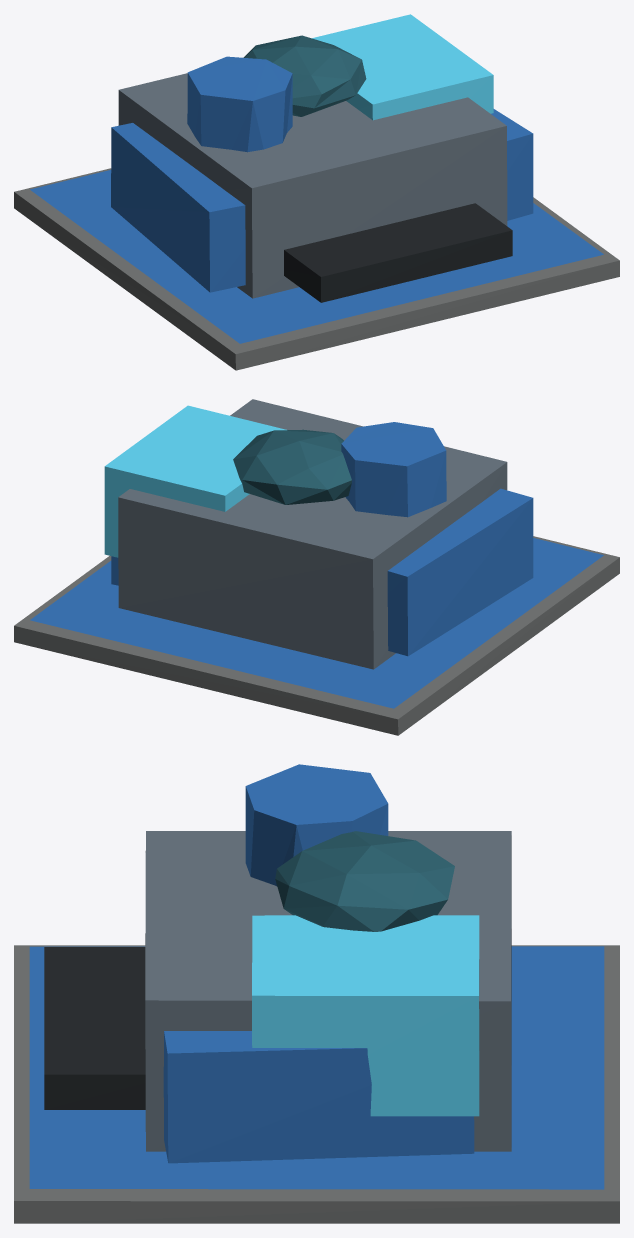
The model's file is SM_Alliance_AL_Refinery_LOD3.fbx.
3 renders of one model, top to bottom at view 1: azimuth 30°, elevation 25°; view 2: azimuth 150°, elevation 25°; view 3: azimuth 270°, elevation 25°, orthographic. The views are drawn at different scales.
Parts seen in each view (by area): view 1: LOD03_SM_Alliance_AL_Refinery; view 2: LOD03_SM_Alliance_AL_Refinery; view 3: LOD03_SM_Alliance_AL_Refinery.
Part boxes in pixels (x1,y1,x2,y2): LOD03_SM_Alliance_AL_Refinery: (14, 14, 619, 370); LOD03_SM_Alliance_AL_Refinery: (14, 399, 619, 735); LOD03_SM_Alliance_AL_Refinery: (14, 764, 619, 1223).
Size of the model in its own units: 797 by 797 by 362.
